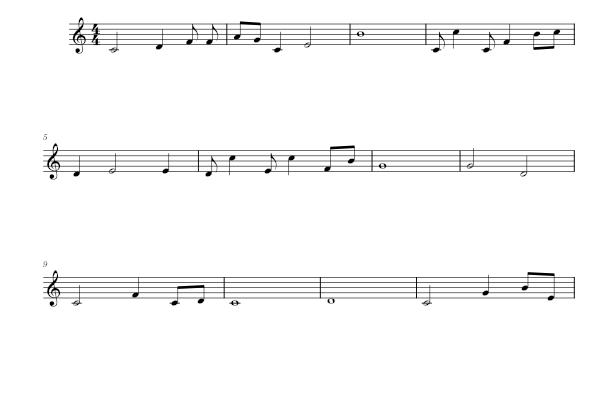Treble Clef: (67, 12, 89, 58), (43, 141, 63, 183), (43, 269, 63, 311)
